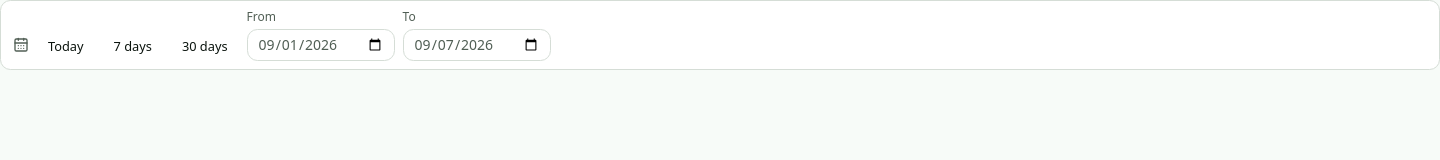
Test: date ranges › does not throw or submit an invalid range when a date is cleared
Clear the date field labelled "From" at (321, 45), box [247, 29, 395, 61]
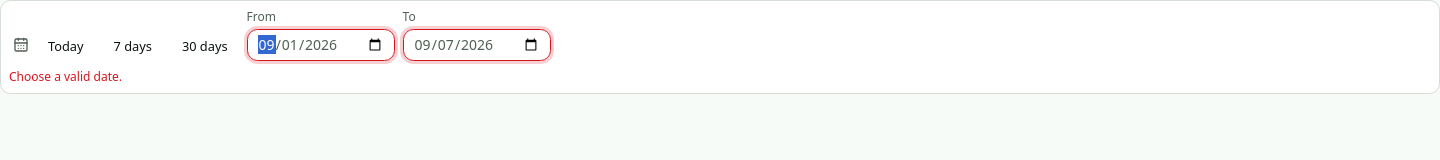
Check: the message shows "valid date", box [9, 68, 122, 85]
